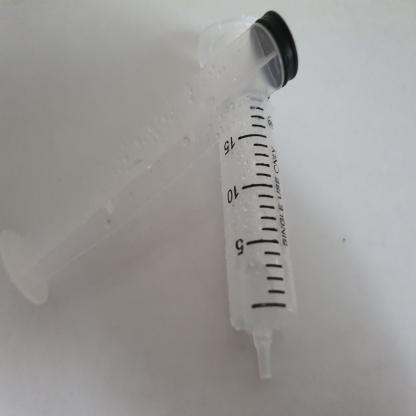wet: (0, 18, 309, 302), (196, 20, 302, 384)
